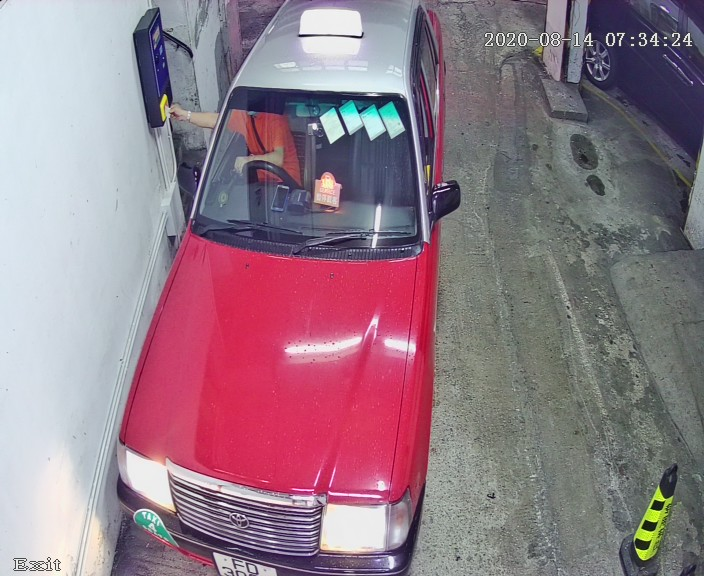taxi: (102, 14, 477, 576)
taxi_mark: (127, 499, 191, 554)
